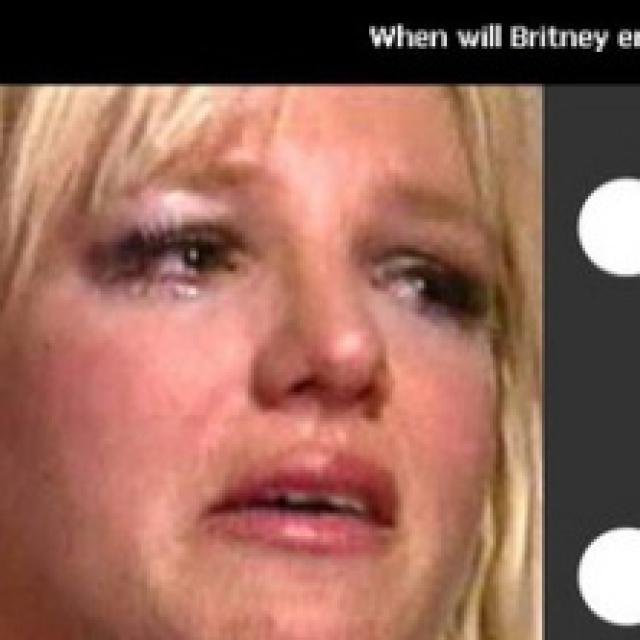Depress: (0, 85, 502, 637)
